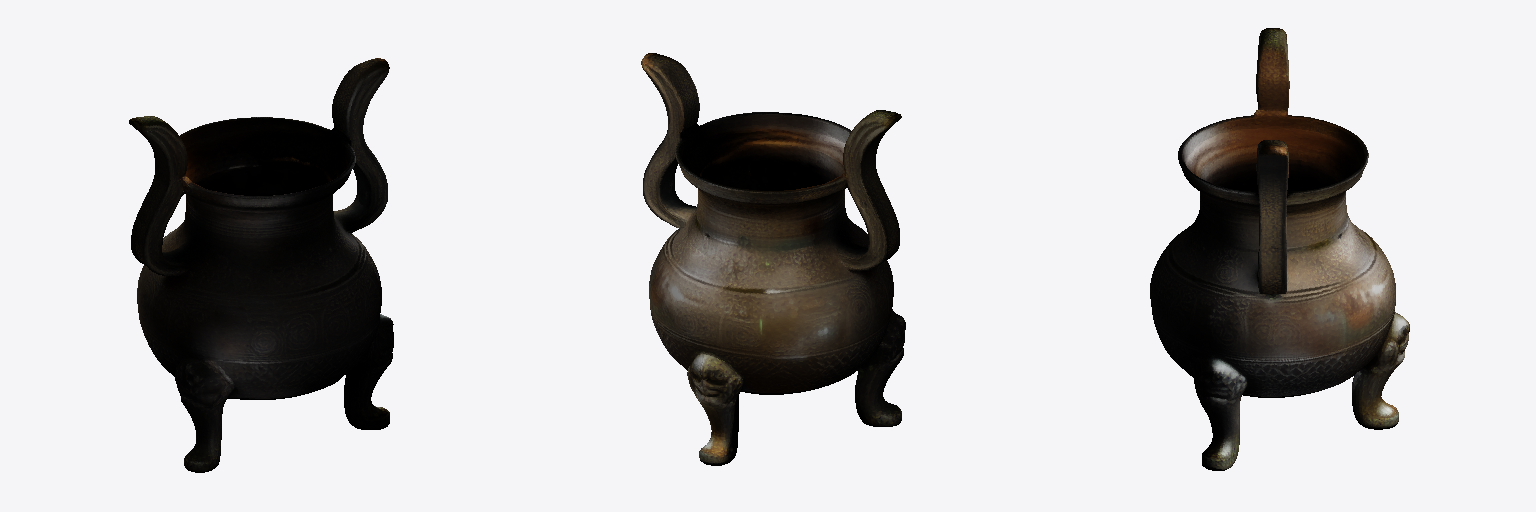
3 views of the same model, side by side, from view 1: azimuth 30°, elevation 25°; view 2: azimuth 150°, elevation 25°; view 3: azimuth 270°, elevation 25° (orthographic).
Parts seen in each view (by area): view 1: geometry_0; view 2: geometry_0; view 3: geometry_0.
Boxes of the visible parts, x1,y1,x2,y2 form: geometry_0: [129, 58, 393, 472]; geometry_0: [641, 53, 905, 465]; geometry_0: [1150, 28, 1409, 470].
Bounding box in the file's own units: 0.7822 × 0.9992 × 0.6953.
1 materials, 1 textured.